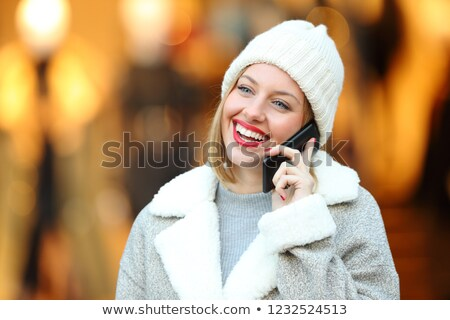phone: (268, 122, 324, 187)
talk: (219, 74, 328, 205)
